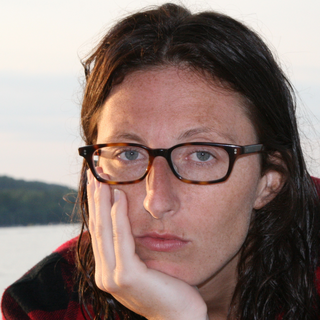eye: (182, 143, 225, 167), (110, 143, 148, 166)
